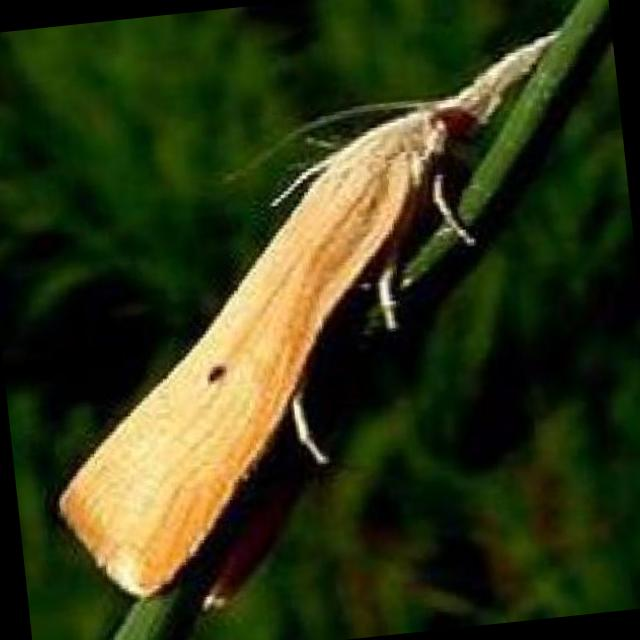stem-borer: (49, 23, 570, 609)
